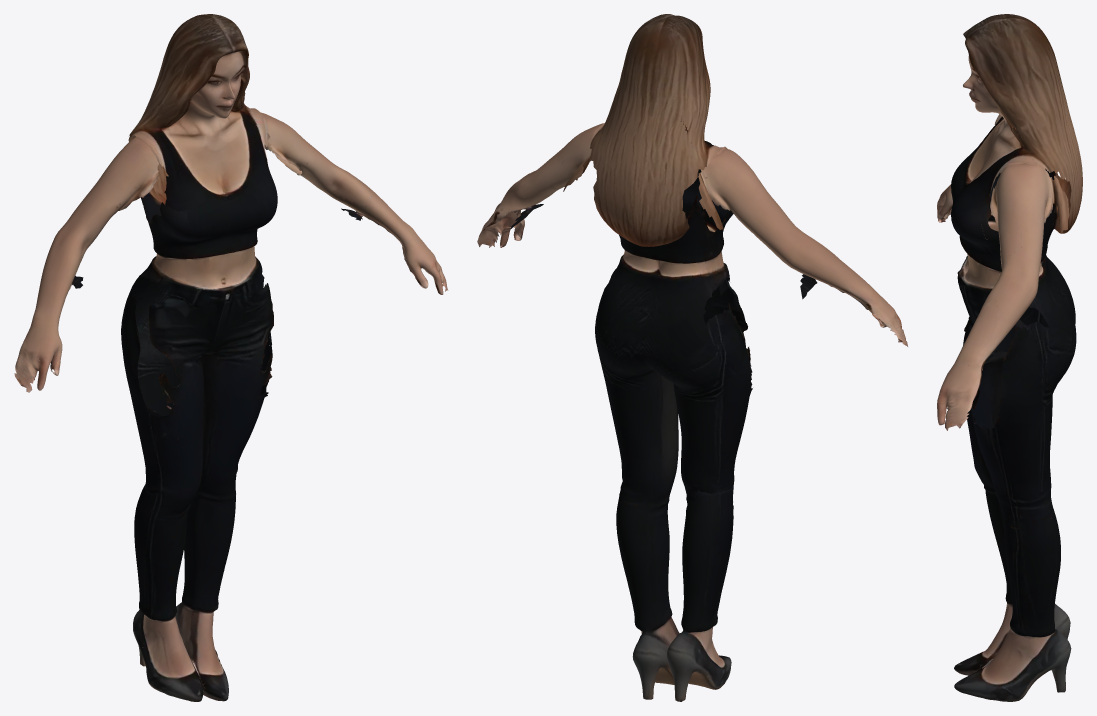
Rendered from mia.fbx.
3 renders of one model, left to right at view 1: azimuth 30°, elevation 25°; view 2: azimuth 150°, elevation 25°; view 3: azimuth 270°, elevation 25°, orthographic. The views are drawn at different scales.
Parts seen in each view (by area): view 1: model; view 2: model; view 3: model.
Boxes of the visible parts, x1,y1,x2,y2 form: model: (14, 14, 448, 701); model: (477, 14, 907, 701); model: (937, 14, 1082, 701).
Size of the model in its own units: 1.28 by 1.9 by 0.3693.
Materials: 1 (1 with a texture image).
